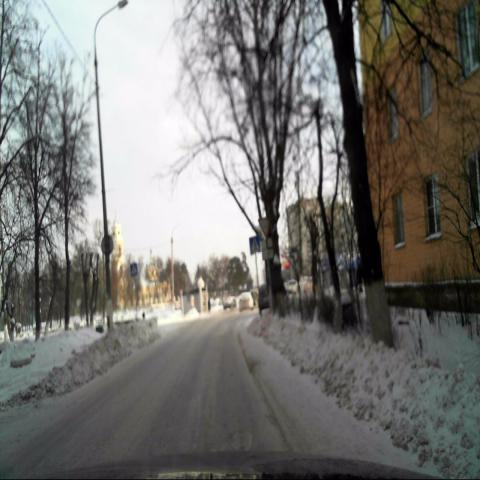8_13: (261, 238, 273, 260)
